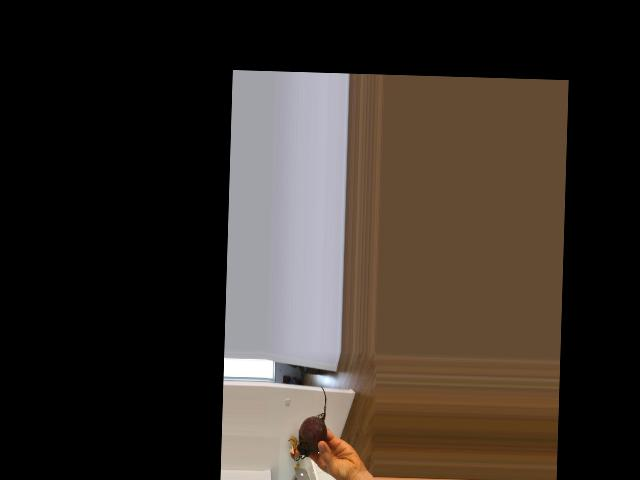beet: (297, 384, 328, 459)
